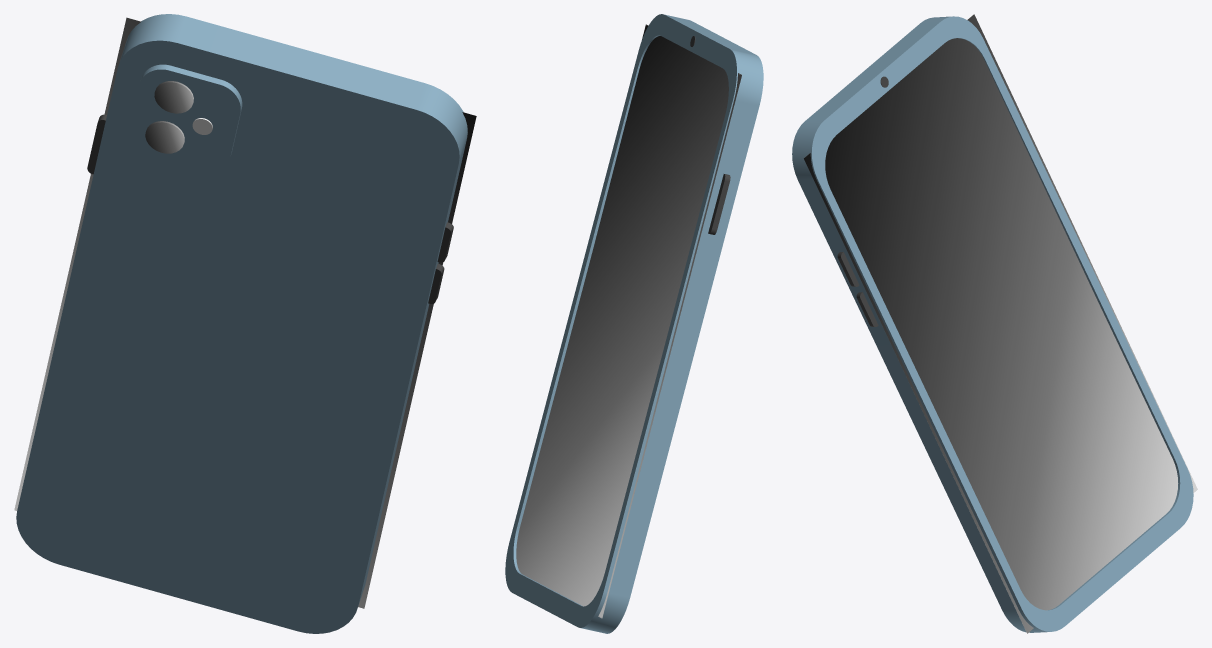
File: Phone.glb
3 renders of one model, left to right at view 1: azimuth 30°, elevation 25°; view 2: azimuth 150°, elevation 25°; view 3: azimuth 270°, elevation 25°, orthographic. The views are drawn at different scales.
Parts seen in each view (by area): view 1: Phone_Case_PhoneCase_Mat_0, Phone_Display; view 2: Phone_Display, Phone_Case_PhoneCase_Mat_0; view 3: Phone_Display, Phone_Case_PhoneCase_Mat_0.
Part boxes in pixels (x1,y1,x2,y2): Phone_Case_PhoneCase_Mat_0: (16, 14, 467, 633); Phone_Display: (14, 17, 476, 608); Phone_Display: (516, 24, 741, 618); Phone_Case_PhoneCase_Mat_0: (505, 14, 763, 633); Phone_Display: (803, 14, 1197, 633); Phone_Case_PhoneCase_Mat_0: (792, 16, 1193, 632).
Bounding box in the file's own units: 0.9884 × 2.33 × 1.59.
Materials: 4 (1 with a texture image).
